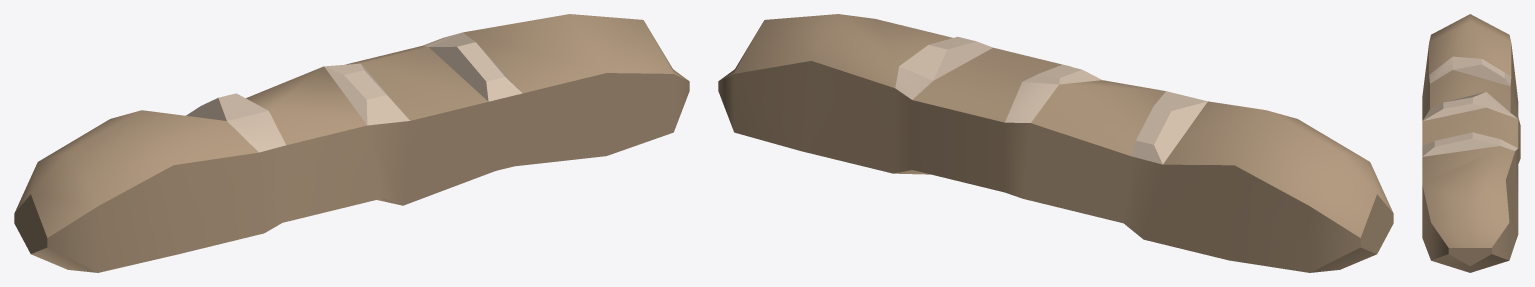
Rendered from eiffel_baguette.fbx.
3 views of the same model, side by side, from view 1: azimuth 30°, elevation 25°; view 2: azimuth 150°, elevation 25°; view 3: azimuth 270°, elevation 25° (orthographic). The views are drawn at different scales.
Visible parts, largest first — view 1: pCube9; view 2: pCube9; view 3: pCube9.
Part boxes in pixels (x1,y1,x2,y2): pCube9: (14, 14, 689, 272); pCube9: (718, 14, 1393, 272); pCube9: (1422, 14, 1520, 272).
Size of the model in its own units: 1.1 by 0.2321 by 0.2244.
